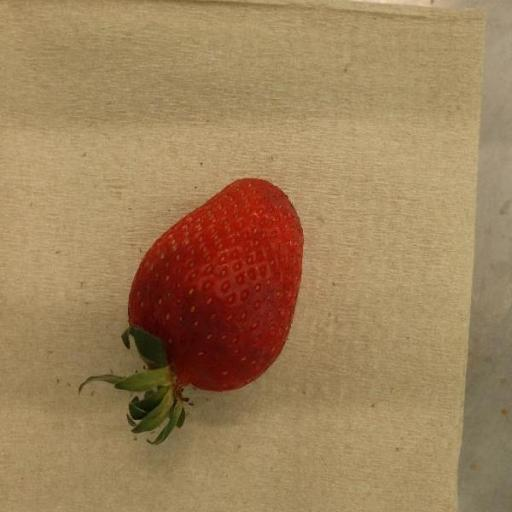Strawberry: (77, 179, 304, 447)
